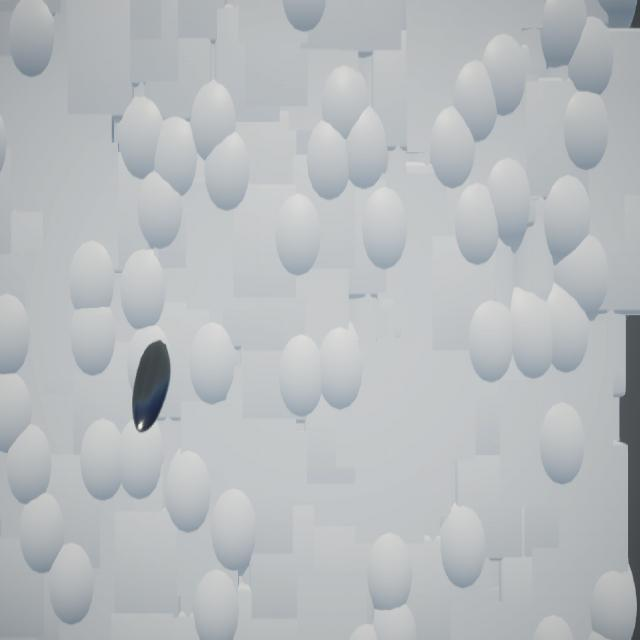top_spoon: (133, 341, 171, 434)
